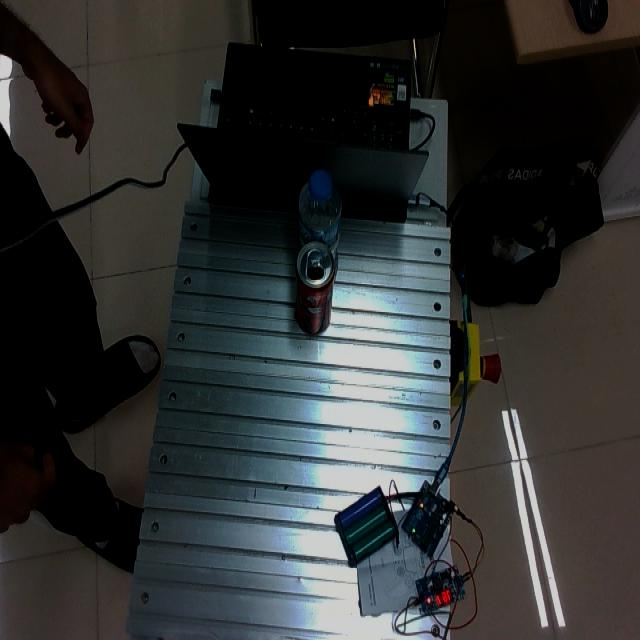coca: (295, 238, 337, 334)
lavie: (298, 167, 343, 273)
